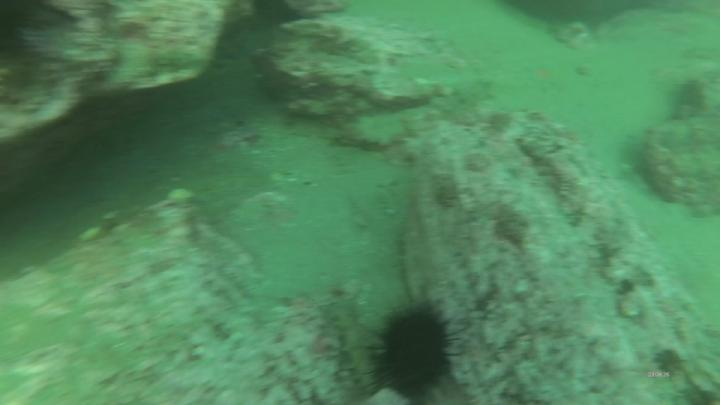echinus: (356, 291, 468, 401)
